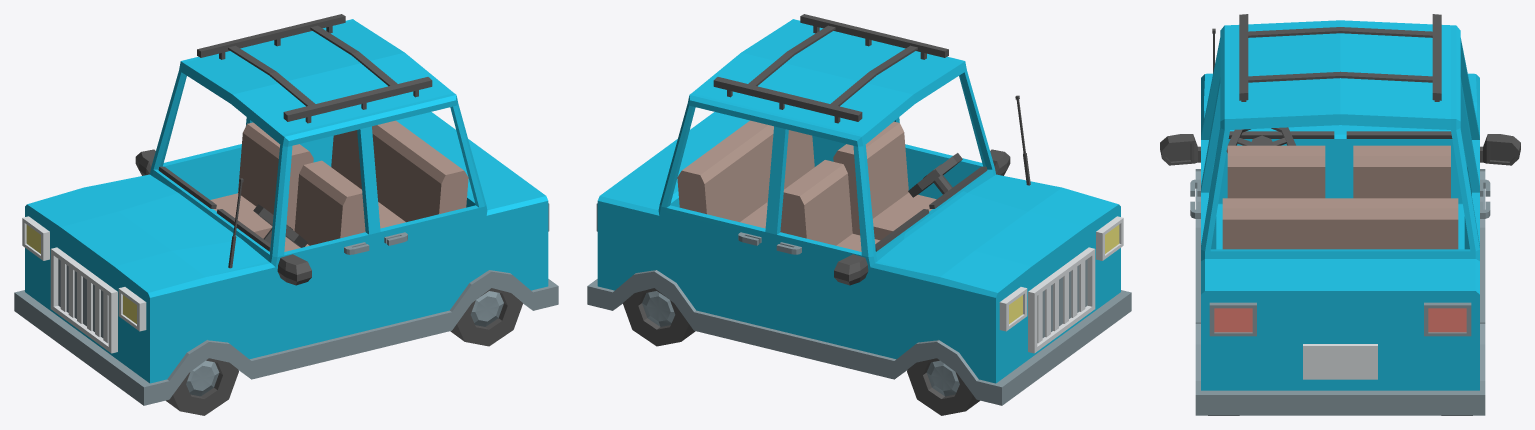
The model's file is car_02.gltf.
3 renders of one model, left to right at view 1: azimuth 30°, elevation 25°; view 2: azimuth 150°, elevation 25°; view 3: azimuth 270°, elevation 25°, orthographic. The views are drawn at different scales.
Visible parts, largest first — view 1: node-0; view 2: node-0; view 3: node-0.
Boxes of the visible parts, x1=… form: node-0: x1=14, y1=14, x2=558, y2=415; node-0: x1=587, y1=14, x2=1131, y2=415; node-0: x1=1160, y1=14, x2=1520, y2=415.
Bounding box in the file's own units: 323 × 200 × 218.
